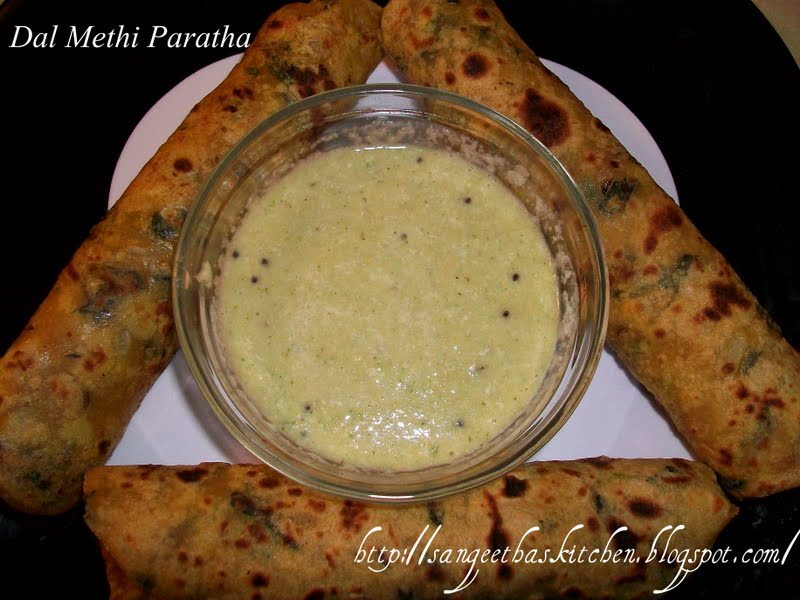aloo_paratha: (392, 4, 800, 492), (1, 6, 381, 509), (91, 460, 745, 600)
